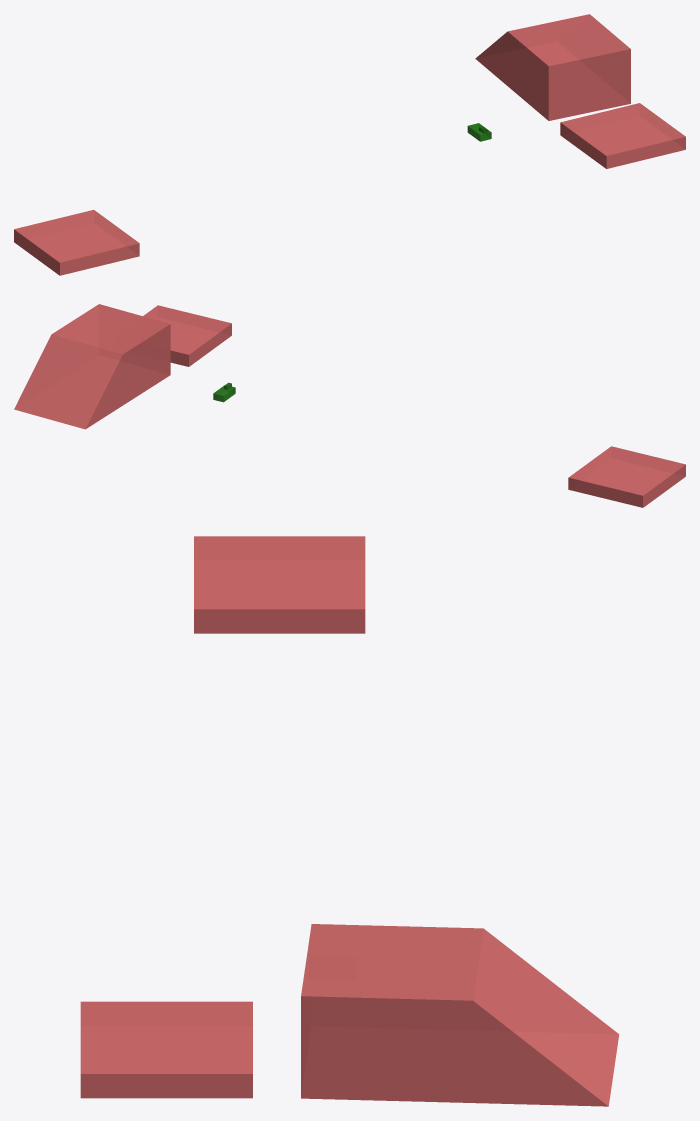
File: car1.gltf
3 renders of one model, top to bottom at view 1: azimuth 30°, elevation 25°; view 2: azimuth 150°, elevation 25°; view 3: azimuth 270°, elevation 25°, orthographic. The views are drawn at different scales.
Parts seen in each view (by area): view 1: static_test.003, static_test.001, static_test.002; view 2: static_test.003, static_test.002, static_test.001; view 3: static_test.003, static_test.001, static_test.002.
Boxes of the visible parts, x1,y1,x2,y2 form: static_test.003: (475,14,630,120); static_test.001: (560,103,685,168); static_test.002: (14,210,139,275); static_test.003: (14,304,170,429); static_test.002: (568,446,685,507); static_test.001: (143,305,231,366); static_test.003: (301,924,619,1106); static_test.001: (80,1001,252,1098); static_test.002: (194,536,365,633).
Size of what is drawn, in the model's own units: 60.5 by 5.65 by 24.83.
